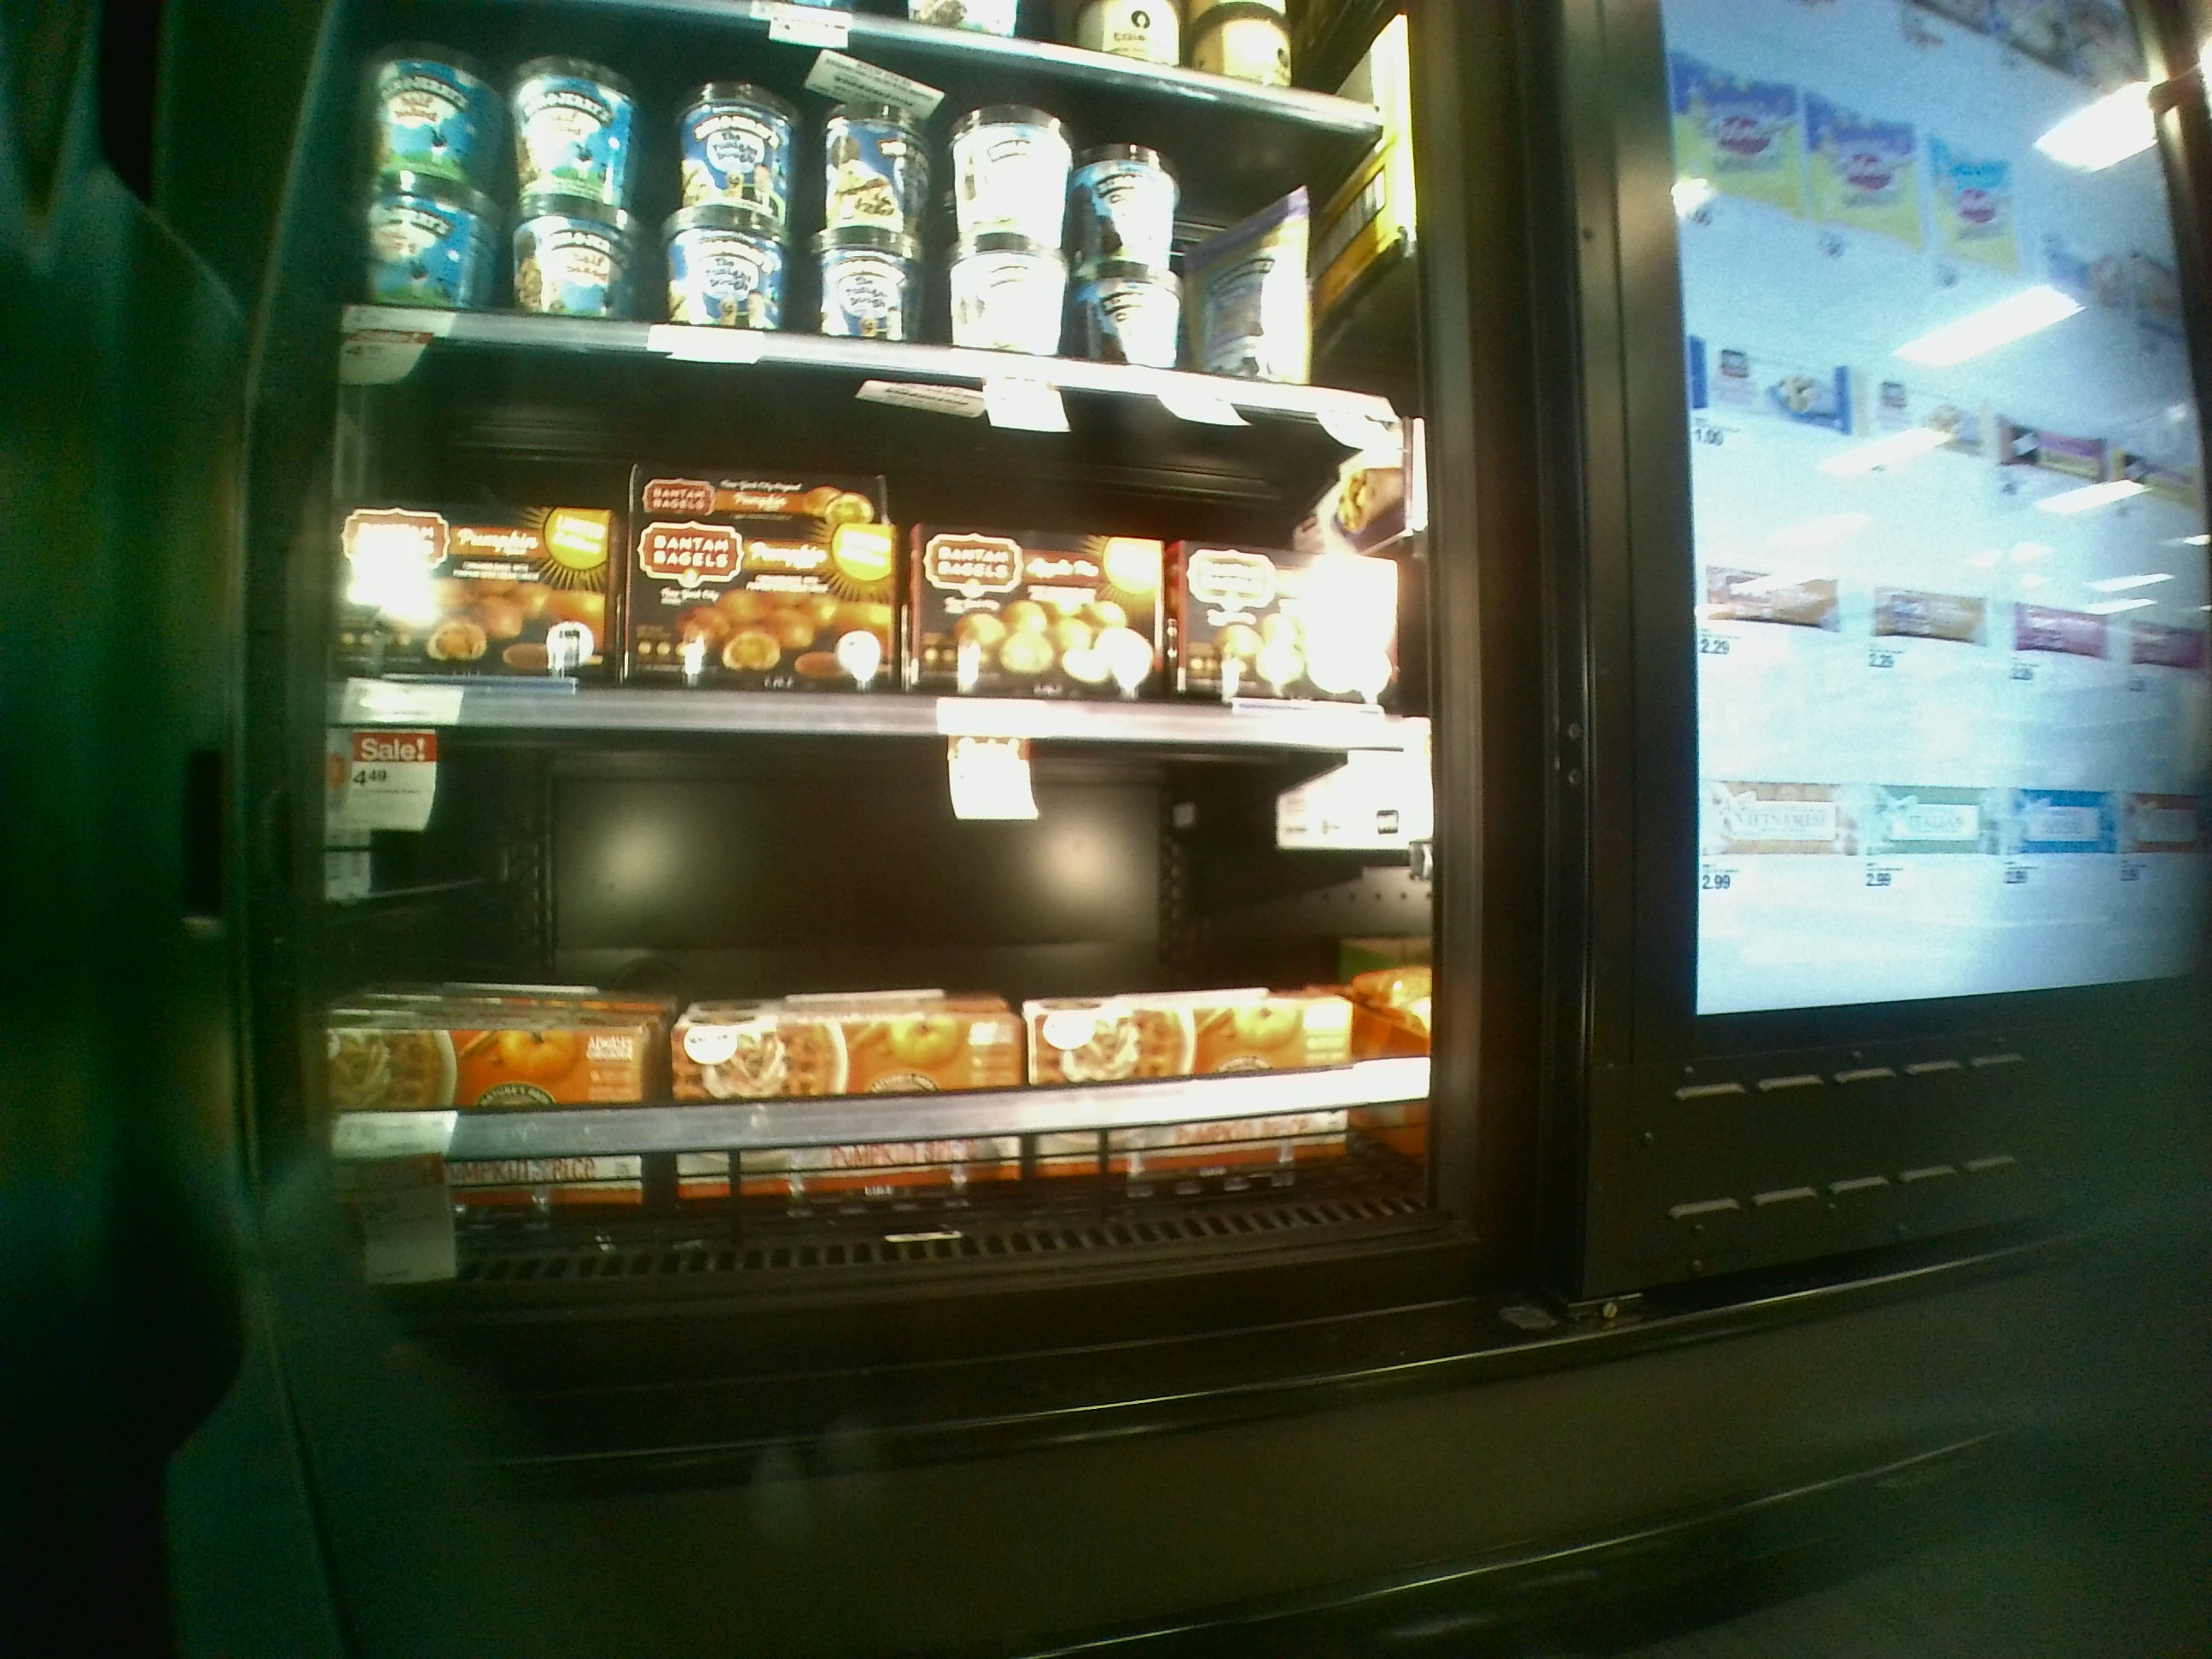shelf: (308, 704, 1479, 1277), (334, 329, 1433, 769)
